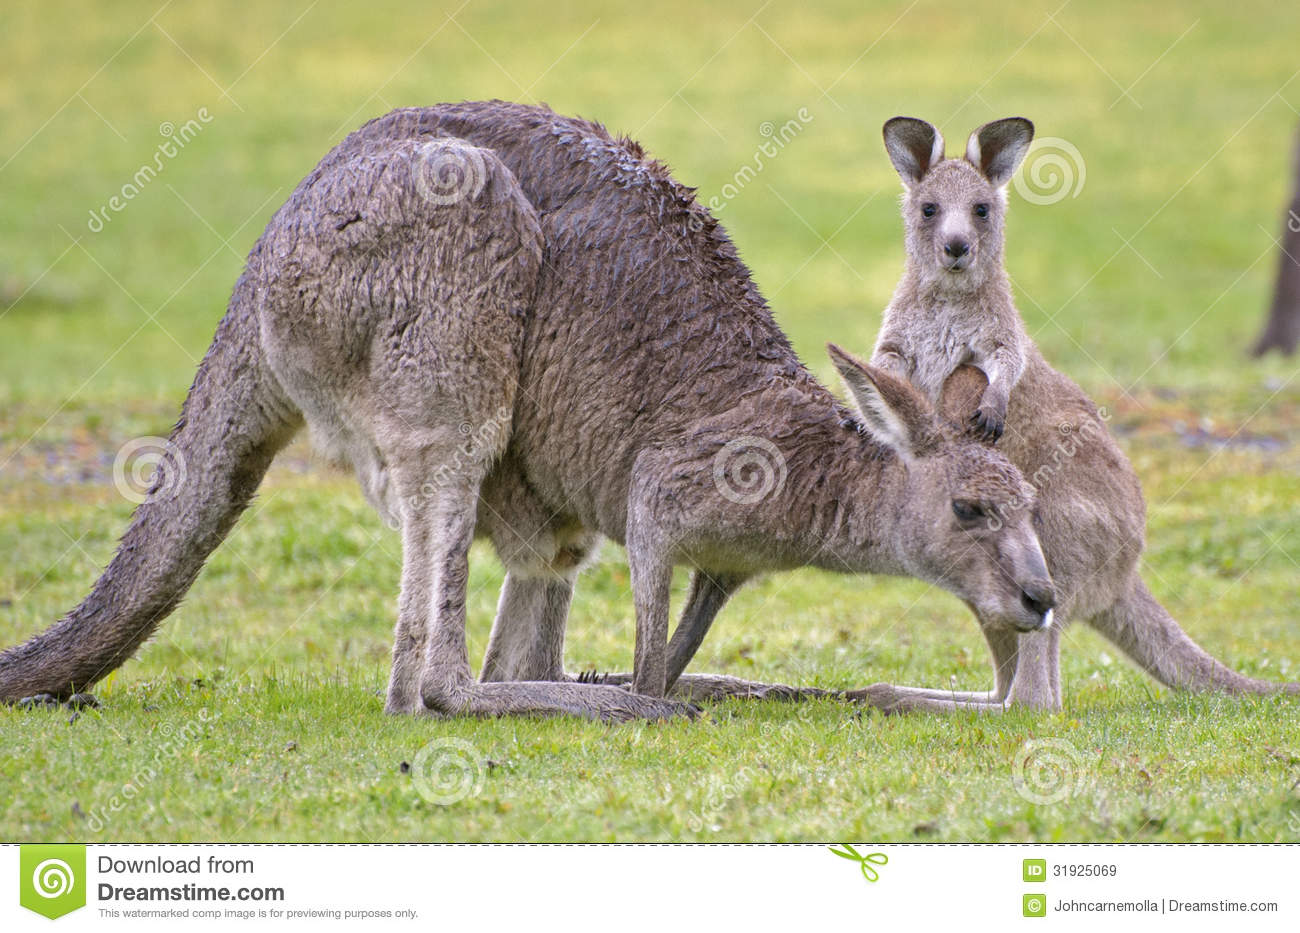kangaroo: (4, 89, 1052, 729), (866, 105, 1299, 740)
